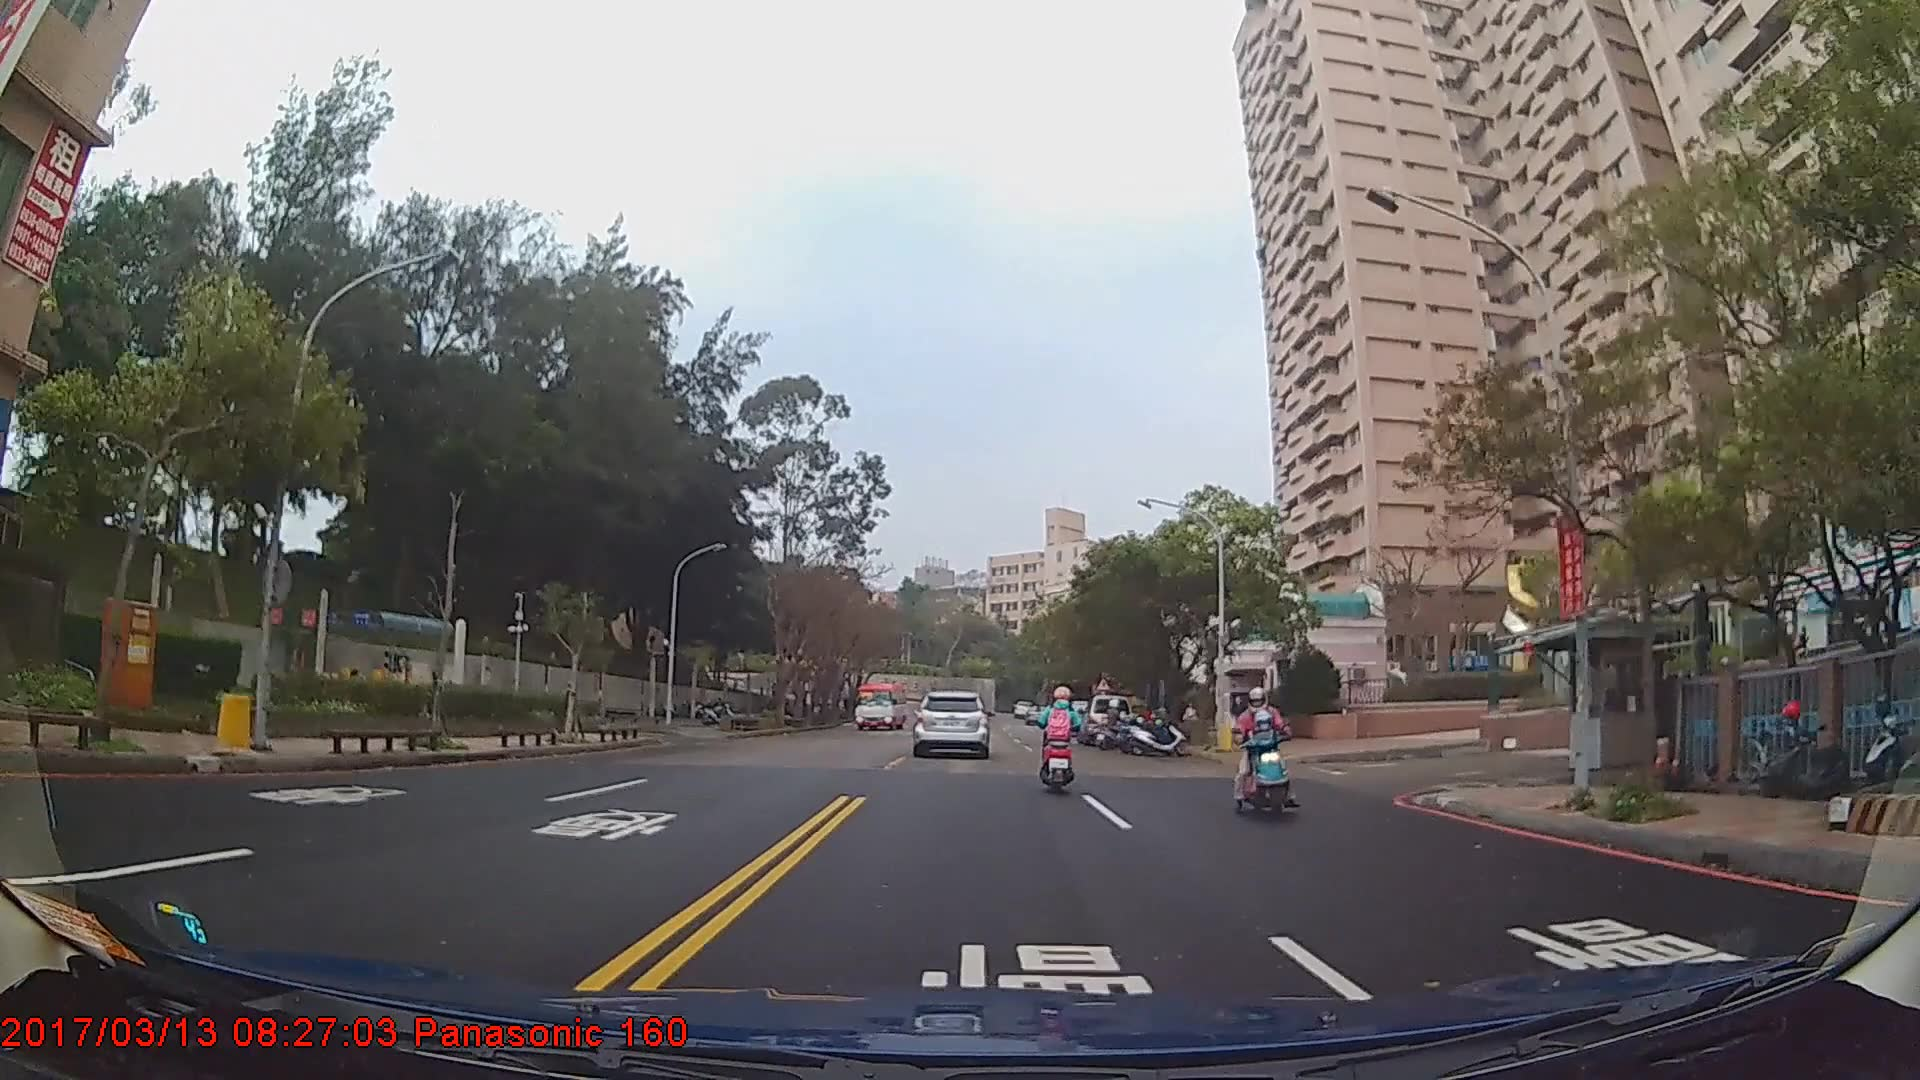rider: (1233, 689, 1295, 823), (1036, 676, 1080, 801), (1095, 697, 1132, 748)
vehicle: (910, 685, 988, 758), (1079, 694, 1131, 746), (854, 679, 905, 727)
